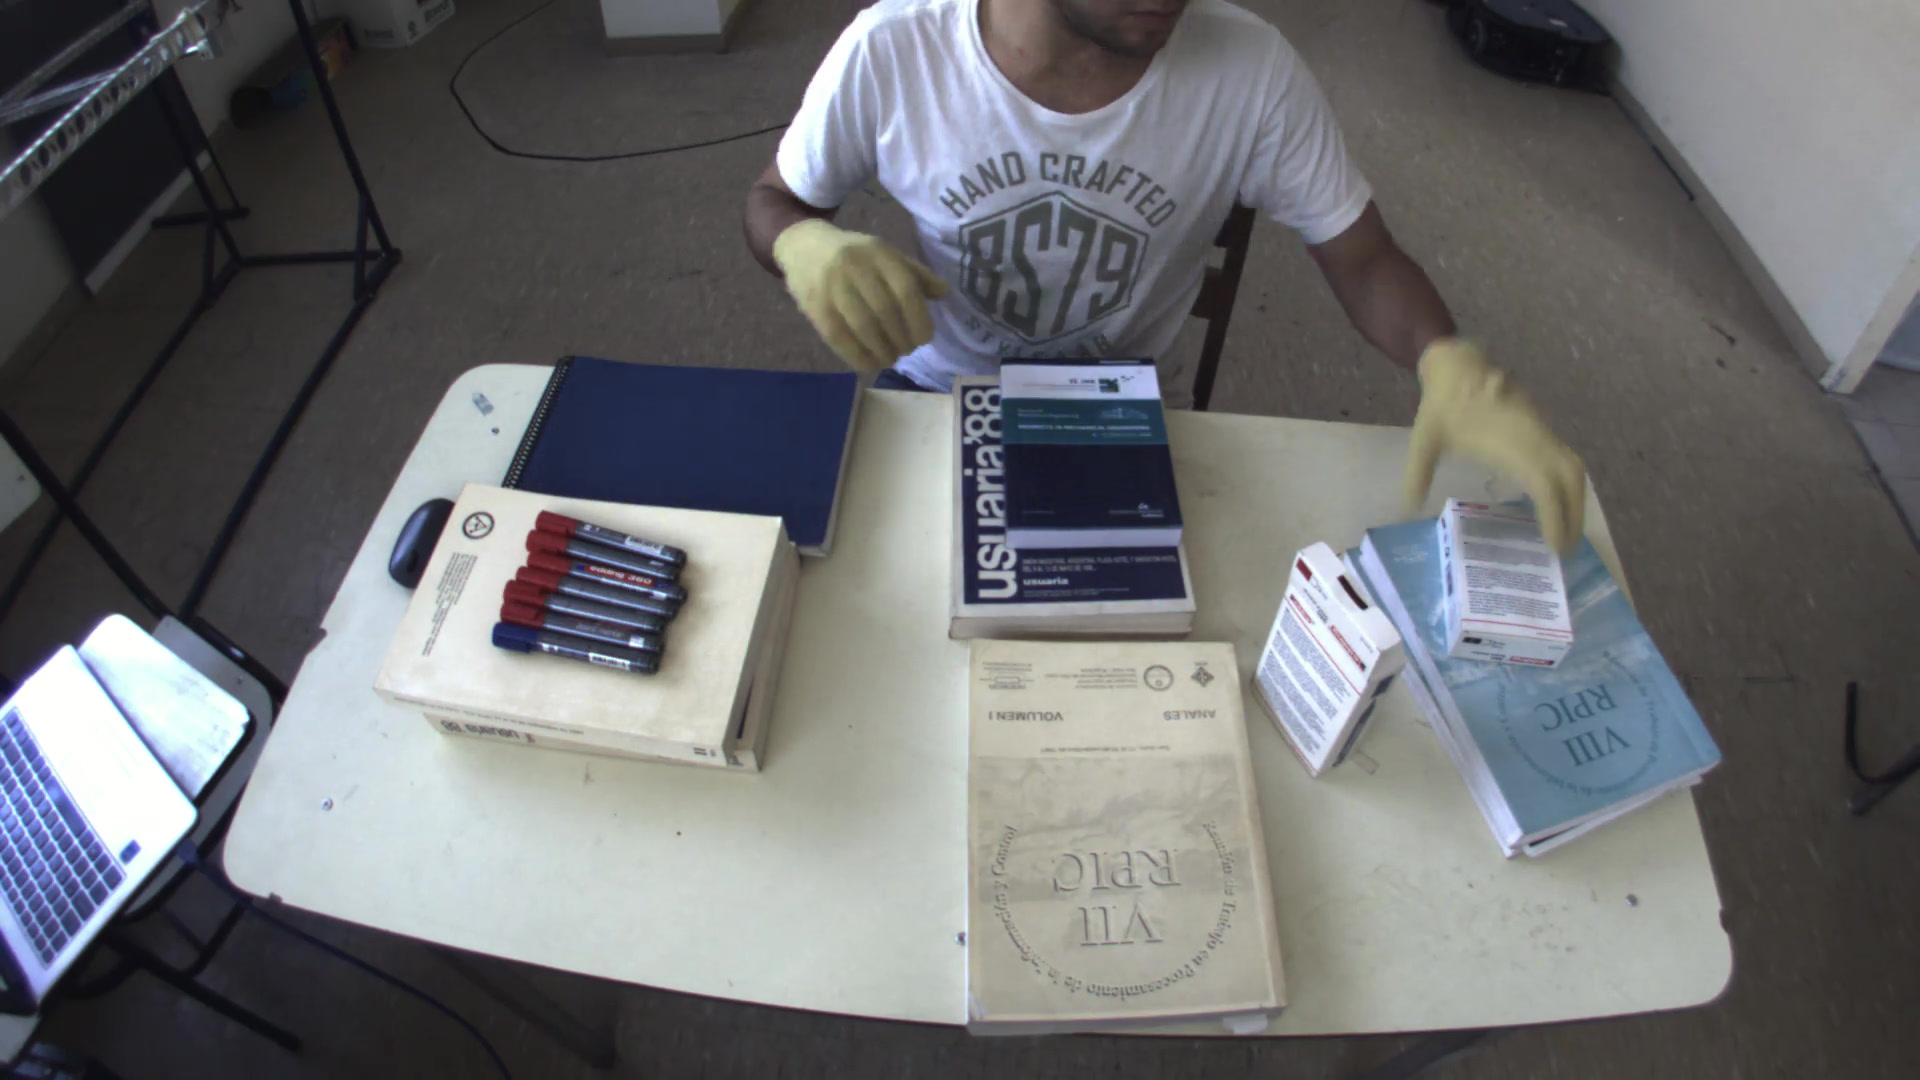hand: (1393, 331, 1611, 556), (756, 204, 949, 384)
